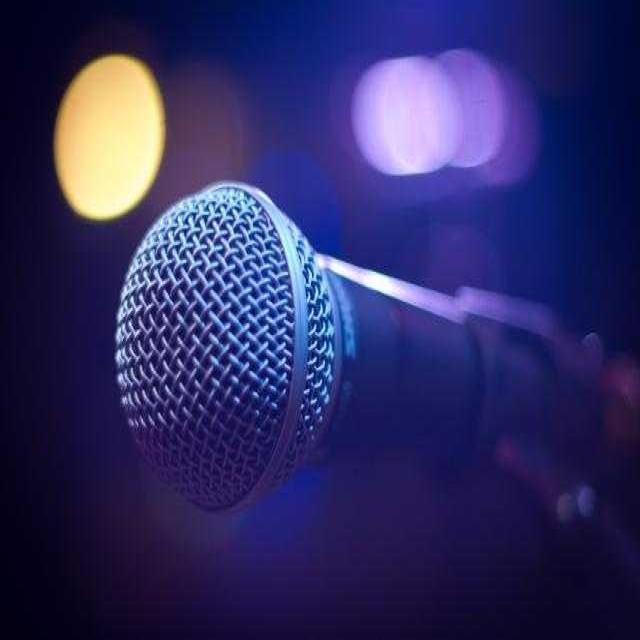microphone: (113, 175, 589, 511)
